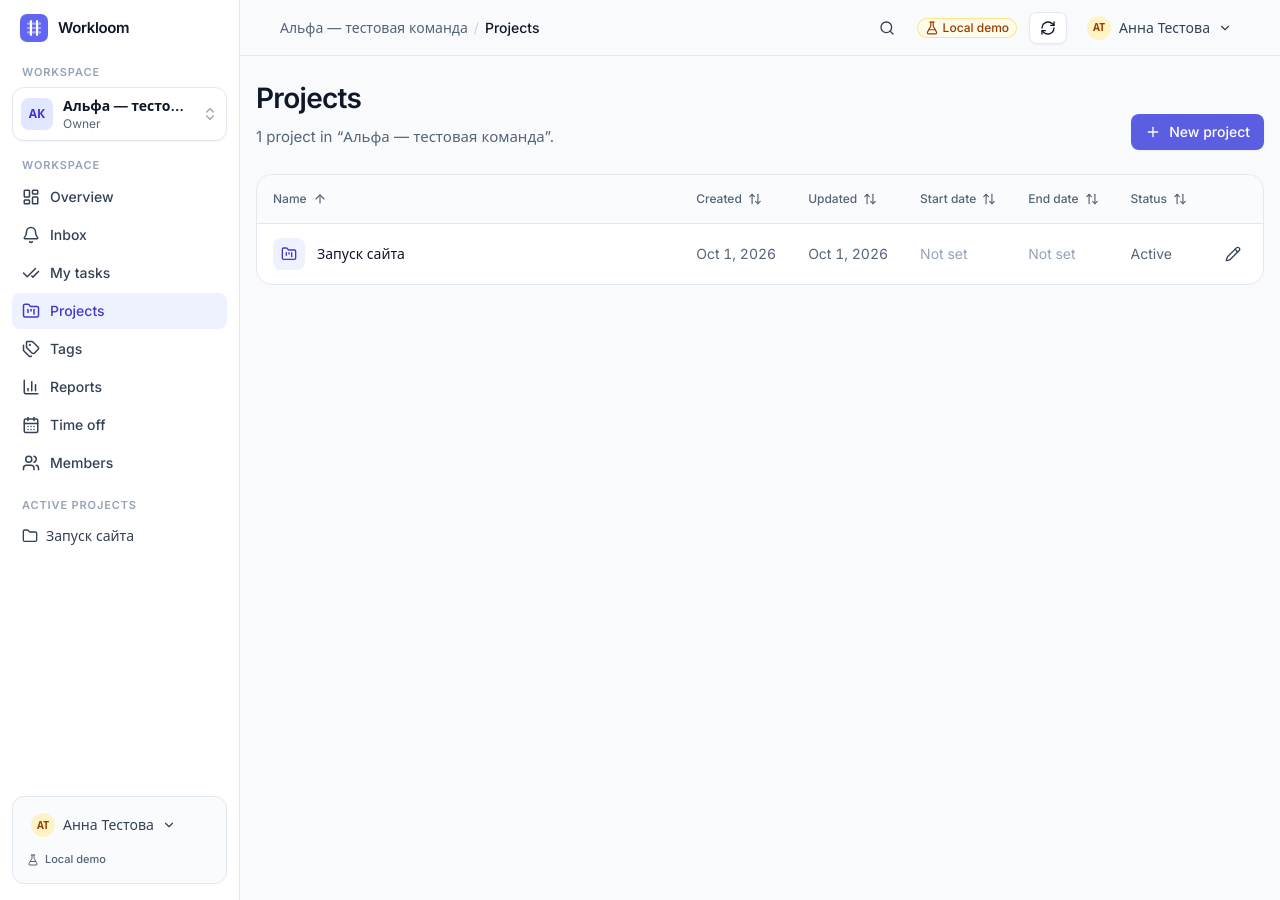
Scenario: projects › keeps the typed name through a rename conflict and saves against the reloaded revision
Click the button named "Rename project “Запуск сайта”" at (1233, 254), box [1215,238,1251,270]
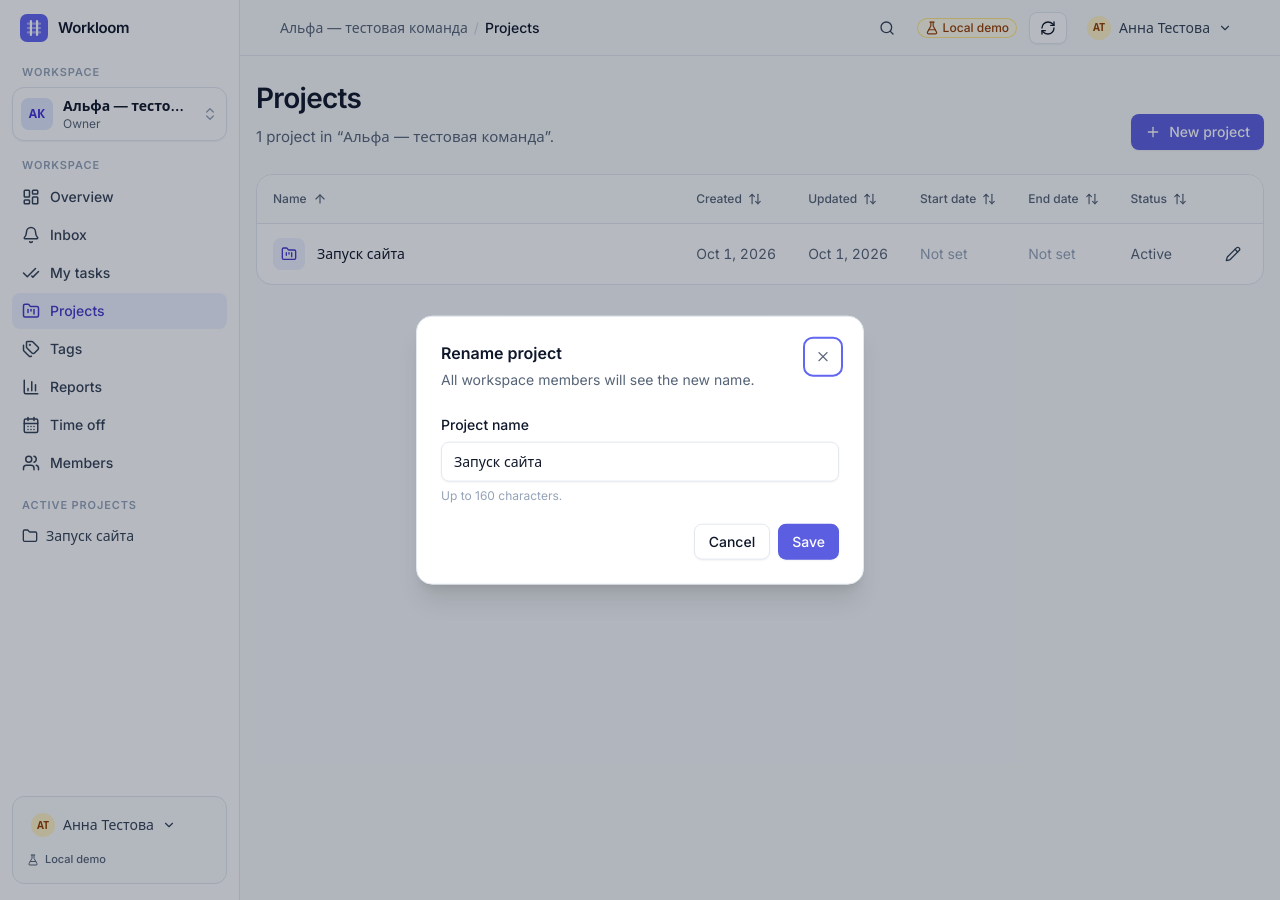
Result: the field labelled "Project name" holds "Запуск сайта"
Replace the text in the field labelled "Project name" with "Запуск лендинга" at (640, 461), box [441,441,839,481]
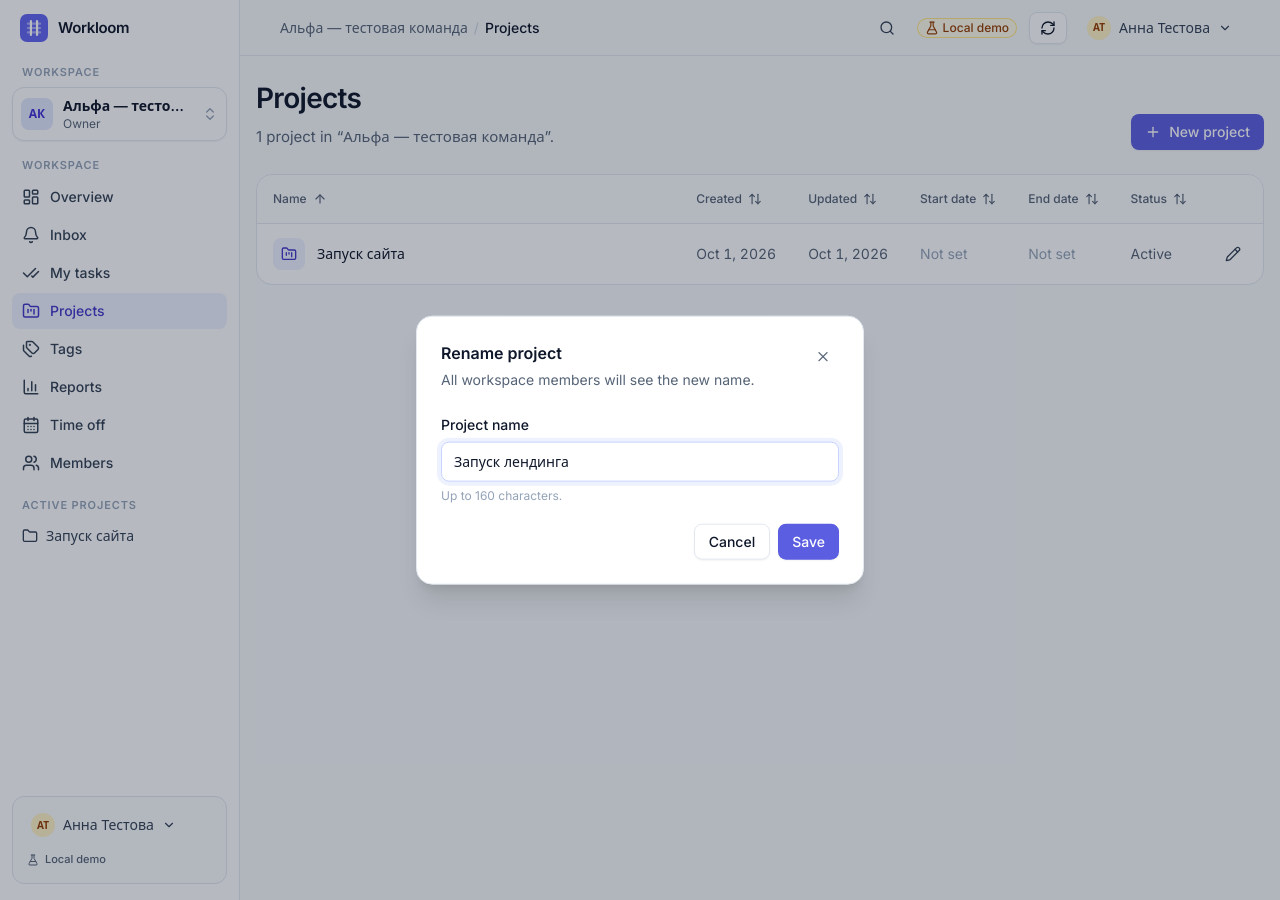
Click the button "Save" at (809, 541), box [778,523,839,559]
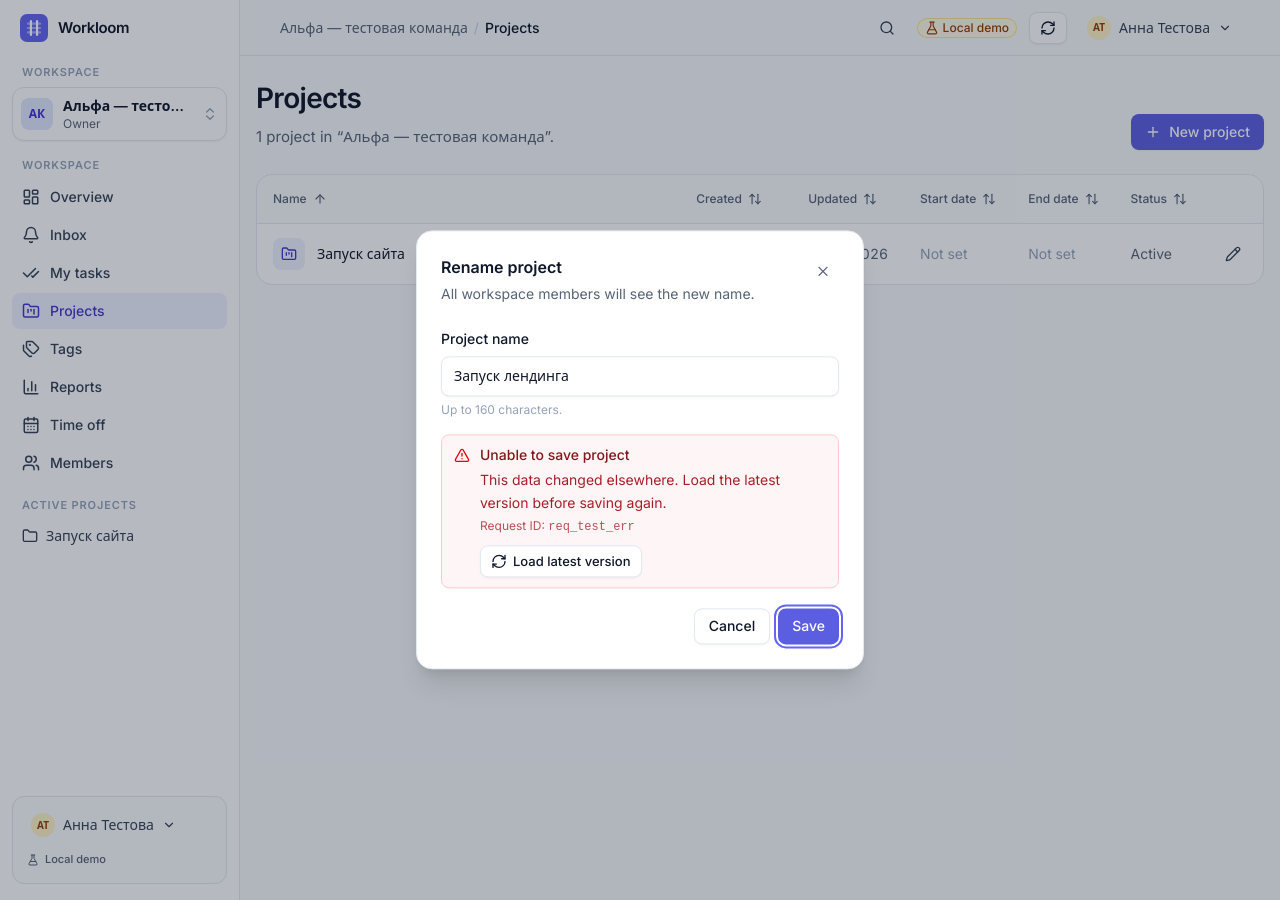
Result: the message shows "This data changed elsewhere" at [480,471,780,511]
Click the button "Load latest version" at (561, 562), box [480,546,642,578]
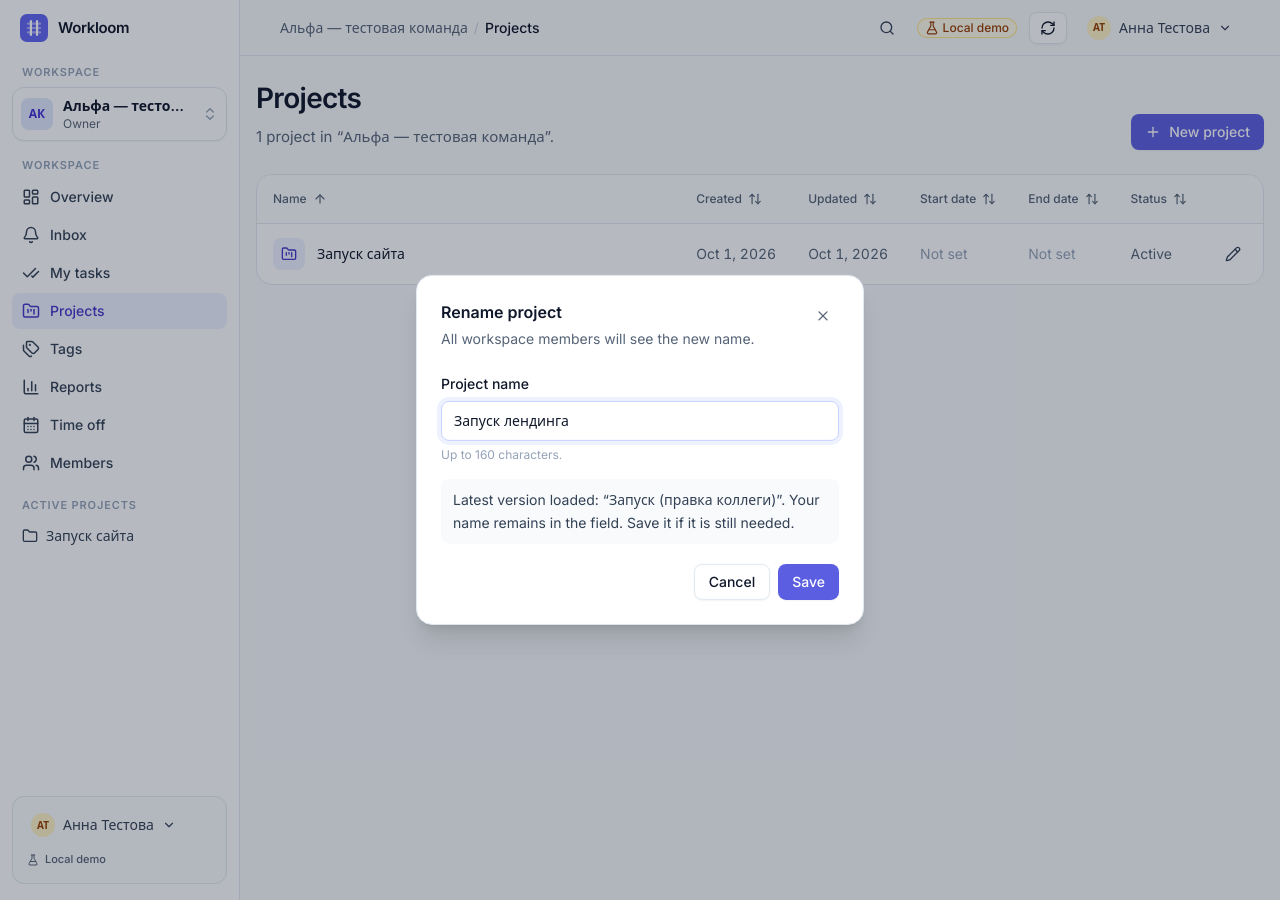
Result: the message shows "“Запуск (правка коллеги)”" at [453,491,820,530]
Click the button "Save" at (809, 582), box [778,564,839,600]
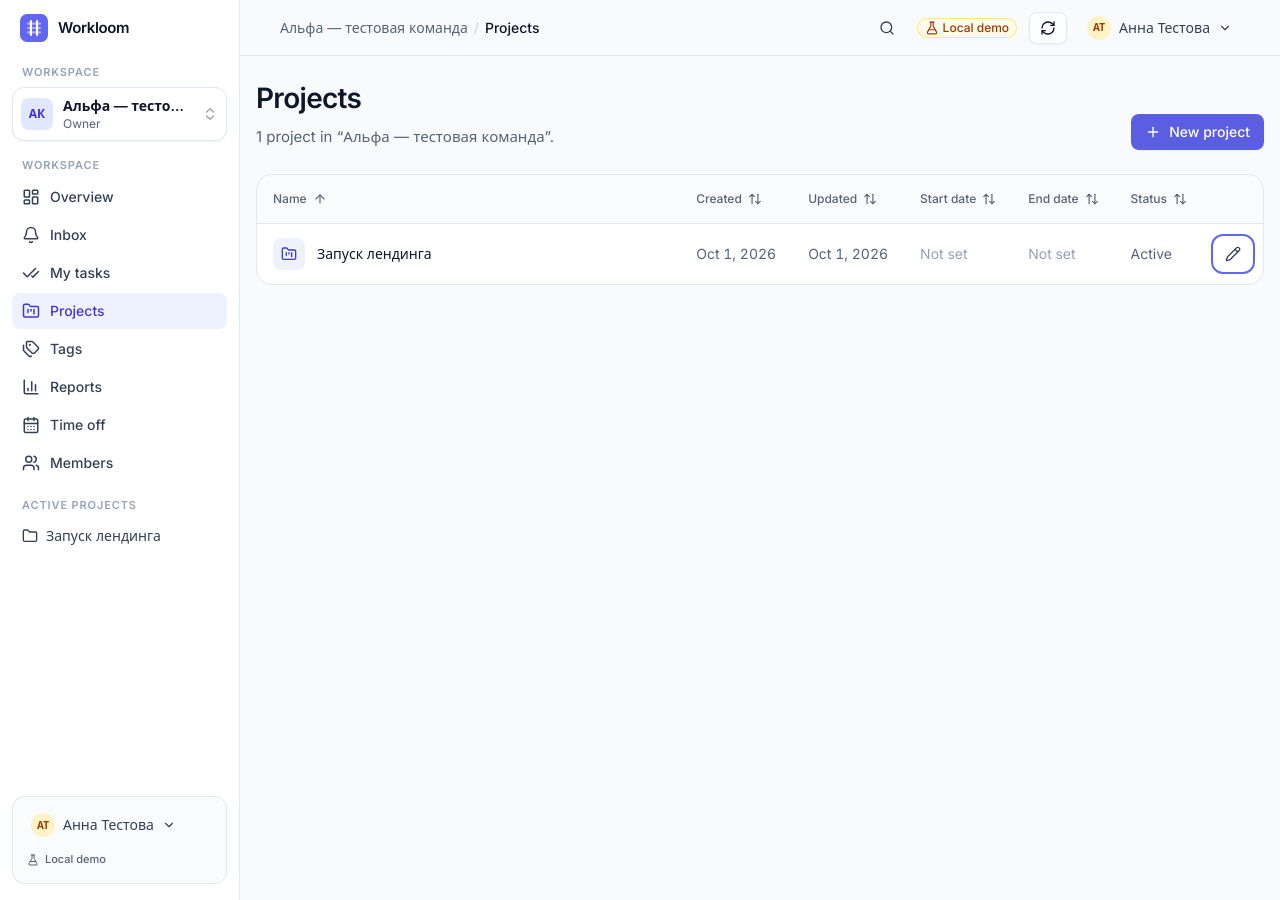
Result: the dialog is gone
